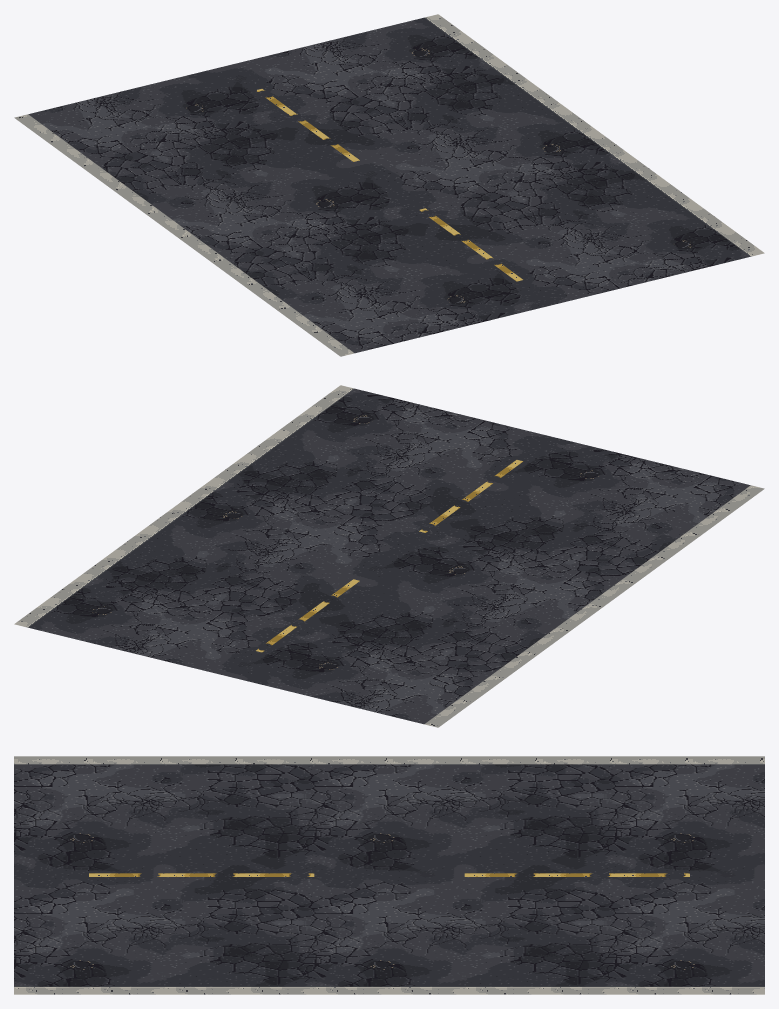
The model's file is RD_Straight_2Lane_10m_Cracked.obj.
3 views of the same model, one above another, from view 1: azimuth 30°, elevation 25°; view 2: azimuth 150°, elevation 25°; view 3: azimuth 270°, elevation 25° (orthographic). The views are drawn at different scales.
Parts seen in each view (by area): view 1: RD_Straight_2Lane_10m_Cracked_Mesh_M_Road_AsphaltCracked, RD_Straight_2Lane_10m_Cracked_Mesh_M_Road_CurbConcrete, RD_Straight_2Lane_10m_Cracked_Mesh_M_Road_MarkingYellow; view 2: RD_Straight_2Lane_10m_Cracked_Mesh_M_Road_AsphaltCracked, RD_Straight_2Lane_10m_Cracked_Mesh_M_Road_CurbConcrete, RD_Straight_2Lane_10m_Cracked_Mesh_M_Road_MarkingYellow; view 3: RD_Straight_2Lane_10m_Cracked_Mesh_M_Road_AsphaltCracked, RD_Straight_2Lane_10m_Cracked_Mesh_M_Road_CurbConcrete, RD_Straight_2Lane_10m_Cracked_Mesh_M_Road_MarkingYellow.
Part boxes in pixels (x1,y1,x2,y2): RD_Straight_2Lane_10m_Cracked_Mesh_M_Road_AsphaltCracked: (28, 17, 750, 353); RD_Straight_2Lane_10m_Cracked_Mesh_M_Road_CurbConcrete: (14, 14, 764, 356); RD_Straight_2Lane_10m_Cracked_Mesh_M_Road_MarkingYellow: (256, 89, 522, 281); RD_Straight_2Lane_10m_Cracked_Mesh_M_Road_AsphaltCracked: (28, 388, 750, 724); RD_Straight_2Lane_10m_Cracked_Mesh_M_Road_CurbConcrete: (14, 385, 764, 727); RD_Straight_2Lane_10m_Cracked_Mesh_M_Road_MarkingYellow: (256, 460, 522, 652); RD_Straight_2Lane_10m_Cracked_Mesh_M_Road_AsphaltCracked: (14, 764, 764, 986); RD_Straight_2Lane_10m_Cracked_Mesh_M_Road_CurbConcrete: (14, 756, 764, 994); RD_Straight_2Lane_10m_Cracked_Mesh_M_Road_MarkingYellow: (89, 873, 689, 876).
Bounding box in the file's own units: 7.5 × 0.006 × 10.
3 materials, 3 textured.
